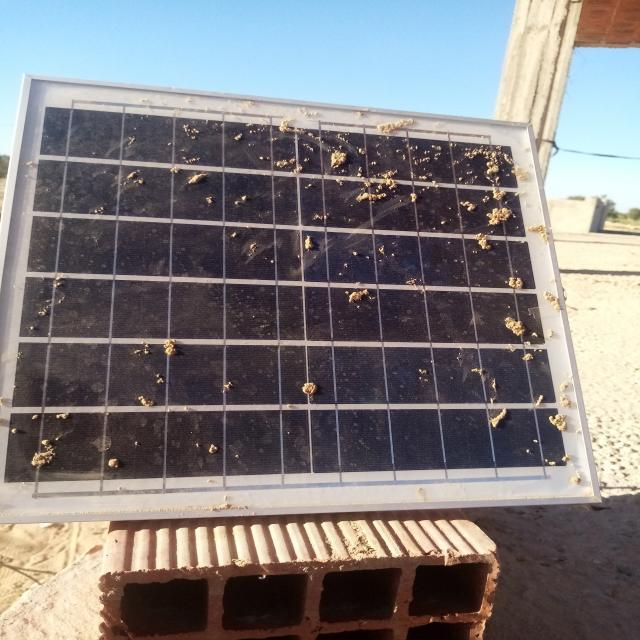faulty: (2, 78, 598, 522)
